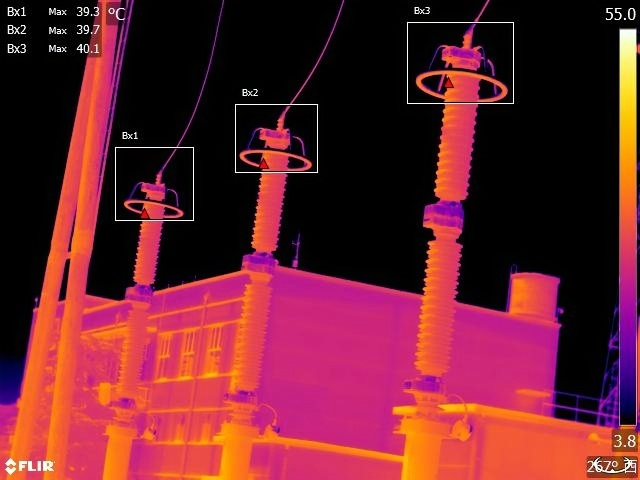lightning arrester: (391, 32, 513, 413), (214, 117, 315, 433), (96, 172, 187, 417)
